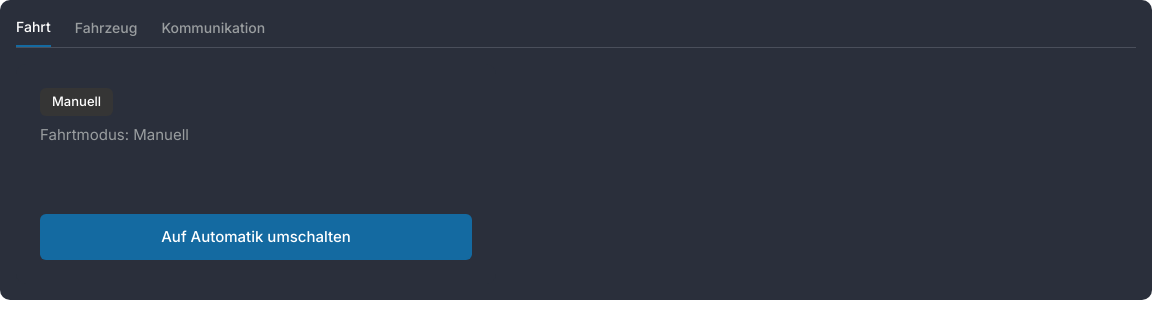
Test case: AktionenPanel — Zurück zum Fahrt-Tab › Klick zurück auf "Fahrt" zeigt FahrtmodusCard wieder
Click the button "Fahrzeug" at (106, 32), box [75,16,137,47]
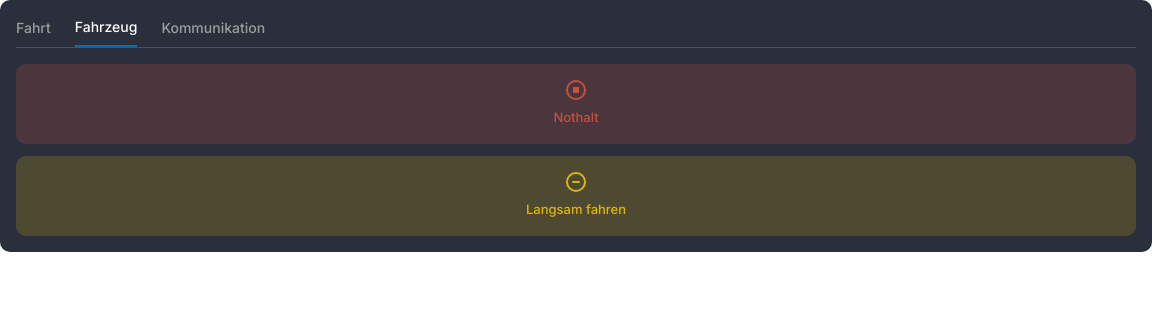
Click the button "Fahrt" at (33, 32), box [16,16,51,47]
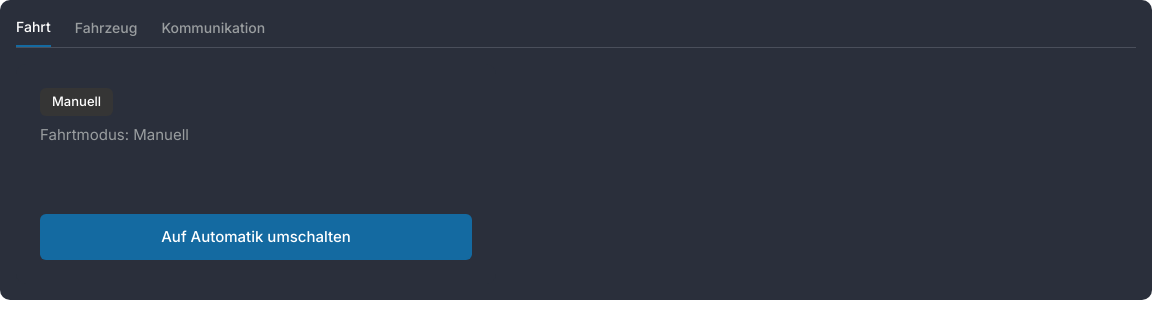
Expected: the text "Manuell" is shown, [40,88,113,116]
